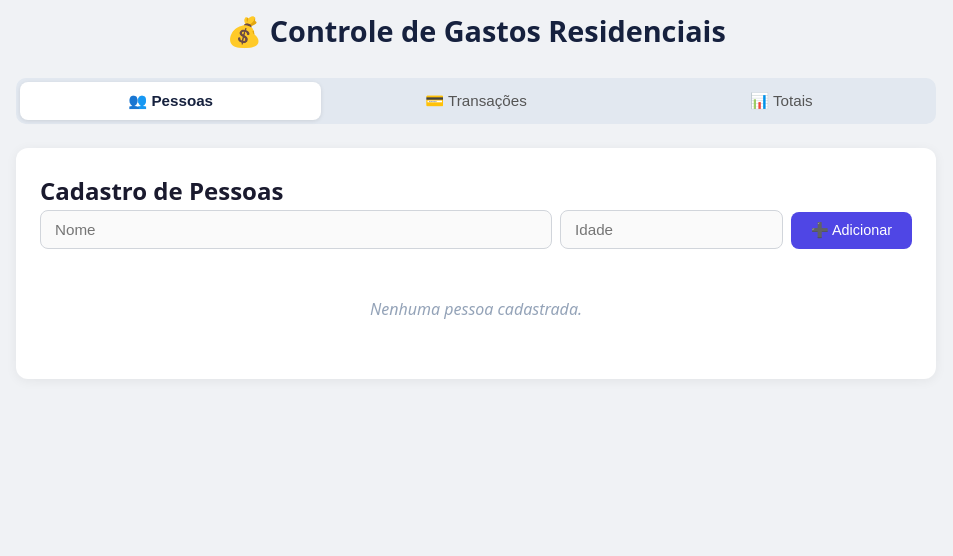
it: App › should switch to Totals tab on click
The image size is (953, 556).
Step 1. Click the button "📊 Totais" → click(781, 101), box top-left (631, 82), bottom-right (932, 120)
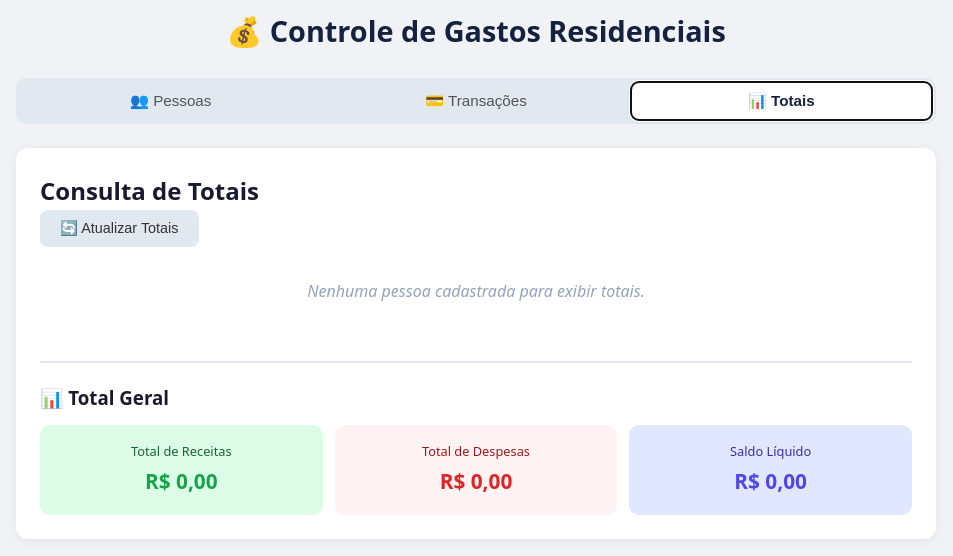
Result: the heading "Consulta de Totais" is shown at top-left (40, 174), bottom-right (259, 207)
